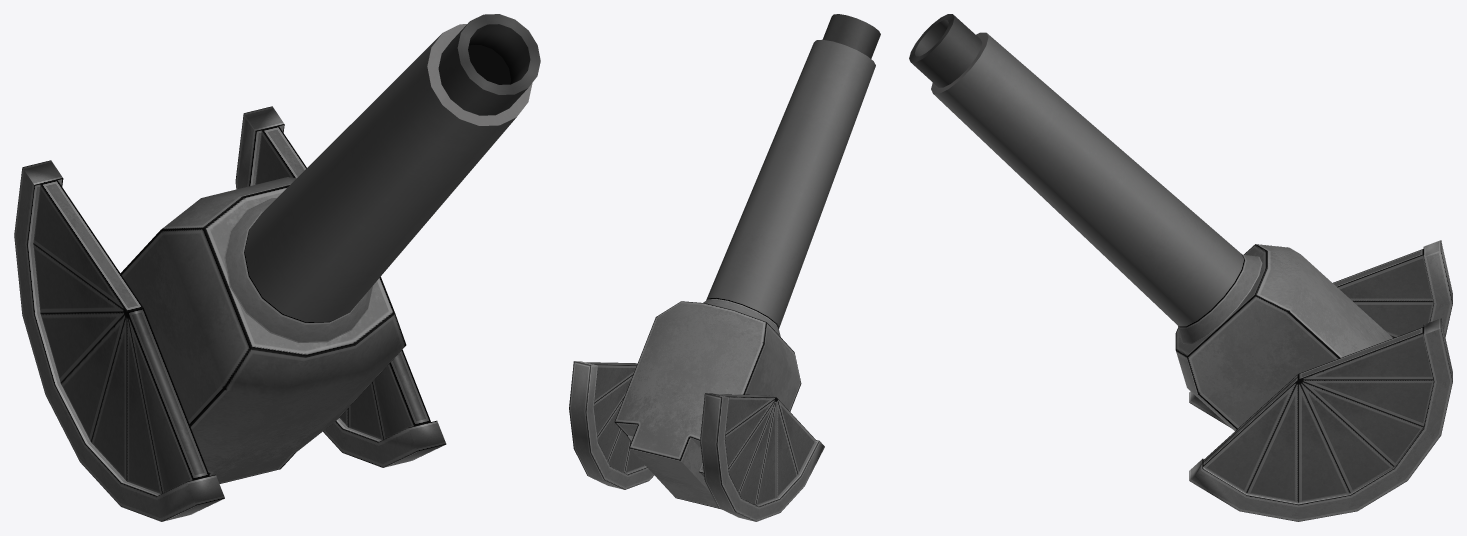
Rendered from Nuke Cannon_Tilt.fbx.
The picture shows the model from 3 angles, left to right: view 1: azimuth 30°, elevation 25°; view 2: azimuth 150°, elevation 25°; view 3: azimuth 270°, elevation 25°; orthographic projection. The views are drawn at different scales.
Visible parts, largest first — view 1: polySurface608; view 2: polySurface608; view 3: polySurface608.
Boxes of the visible parts, x1,y1,x2,y2 form: polySurface608: [14, 14, 540, 521]; polySurface608: [569, 14, 880, 521]; polySurface608: [909, 14, 1452, 521].
Bounding box in the file's own units: 59.8 × 147 × 155.
1 material, 1 textured.
